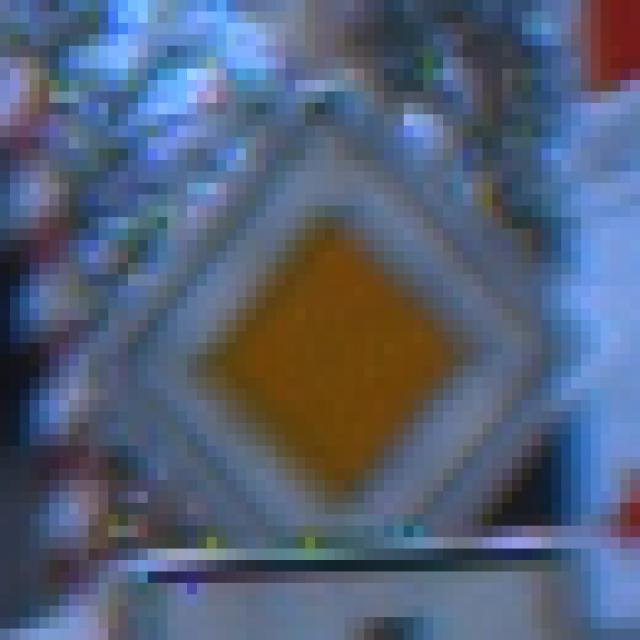Main Road: (60, 58, 592, 584)
